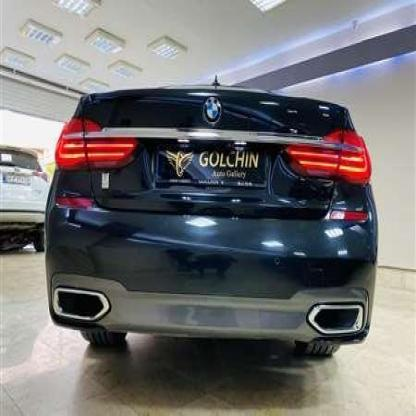Car: (37, 83, 376, 370), (0, 144, 67, 268)
